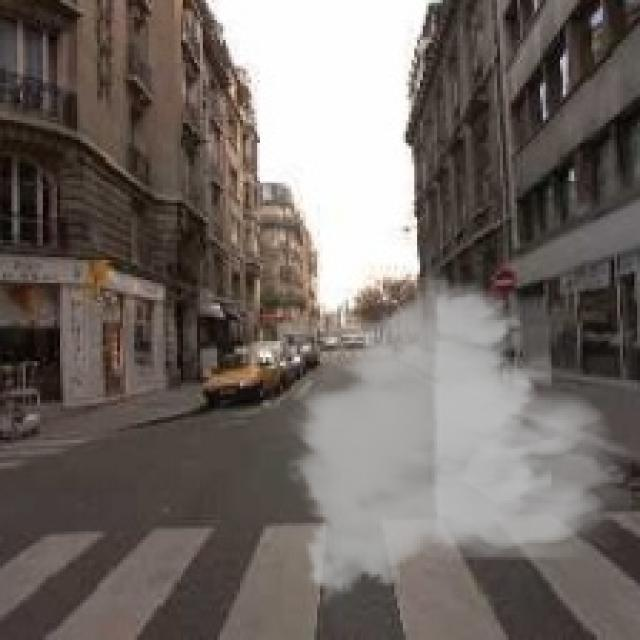Smoke: (283, 263, 632, 612)
